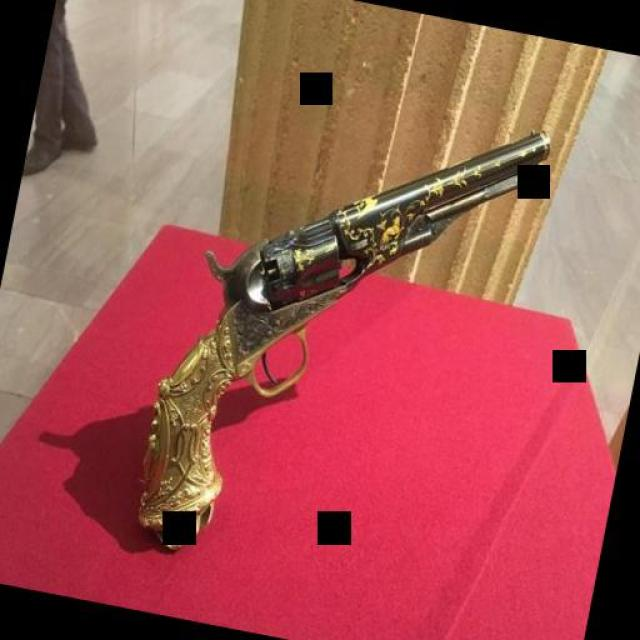gun: (117, 55, 555, 617)
